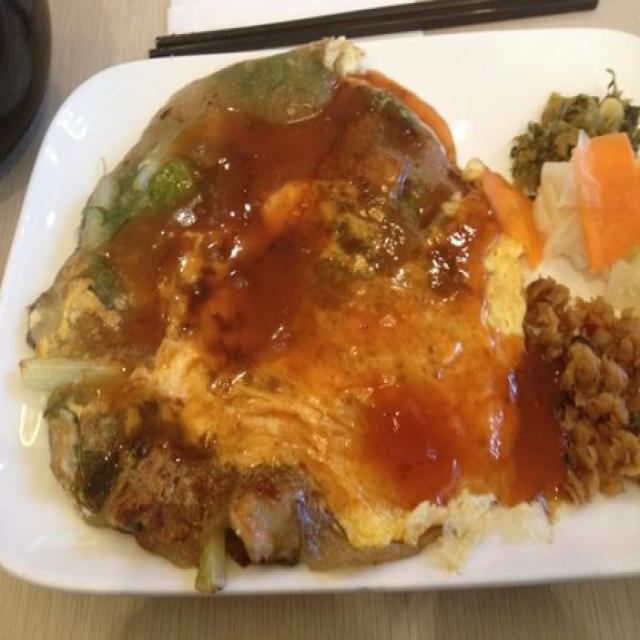熟制海鲜: (25, 31, 636, 585)
